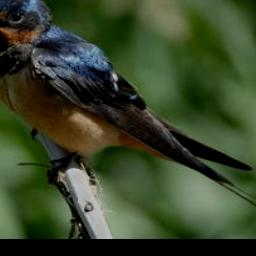Swallow: (0, 0, 256, 216)
